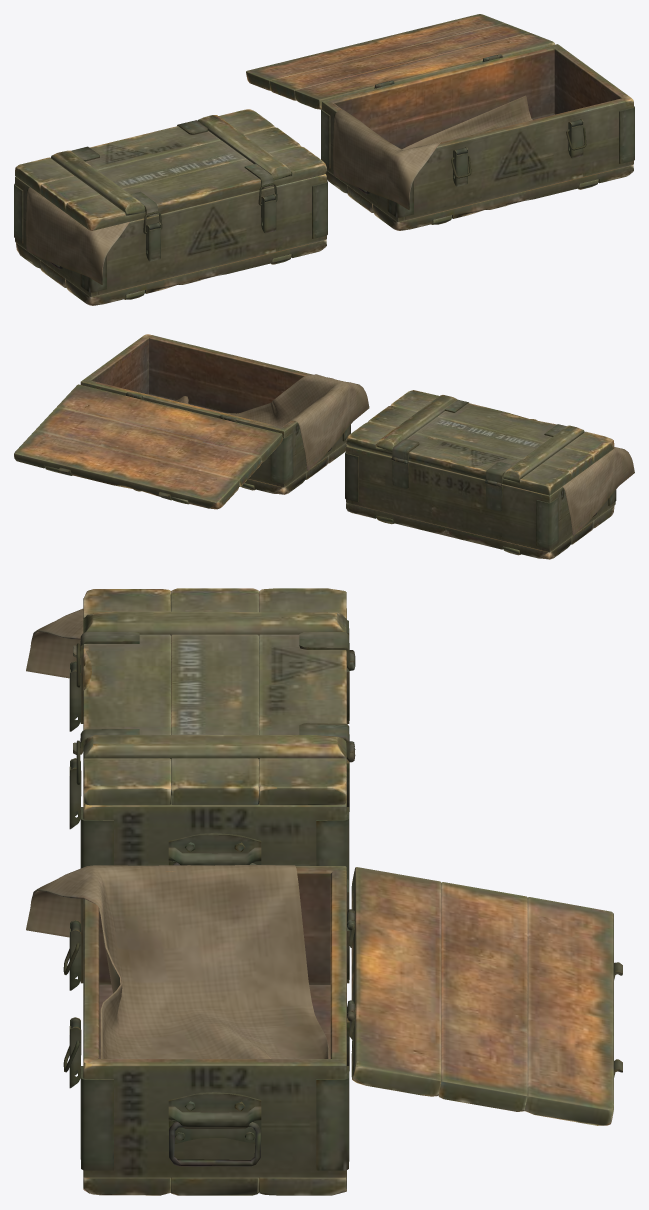
The model's file is old_military_crate.glb.
3 views of the same model, one above another, from view 1: azimuth 30°, elevation 25°; view 2: azimuth 150°, elevation 25°; view 3: azimuth 270°, elevation 25° (orthographic). The views are drawn at different scales.
Parts seen in each view (by area): view 1: old_military_crate_b, old_military_crate_lid_a, old_military_crate_a, old_military_crate_lid_b, old_military_crate_cloth_b, old_military_crate_cloth_a, old_military_crate_latch_a, old_military_crate_latch_b; view 2: old_military_crate_lid_b, old_military_crate_lid_a, old_military_crate_a, old_military_crate_b, old_military_crate_cloth_b, old_military_crate_cloth_a; view 3: old_military_crate_lid_a, old_military_crate_lid_b, old_military_crate_b, old_military_crate_cloth_b, old_military_crate_a, old_military_crate_cloth_a, old_military_crate_latch_b, old_military_crate_latch_a.
Boxes of the visible parts, bbox=[...] form: old_military_crate_b: bbox=[321, 44, 634, 230]; old_military_crate_lid_a: bbox=[15, 109, 326, 230]; old_military_crate_a: bbox=[14, 174, 327, 305]; old_military_crate_lid_b: bbox=[246, 14, 554, 109]; old_military_crate_cloth_b: bbox=[333, 95, 532, 209]; old_military_crate_cloth_a: bbox=[26, 187, 129, 284]; old_military_crate_latch_a: bbox=[146, 194, 276, 261]; old_military_crate_latch_b: bbox=[453, 119, 583, 186]; old_military_crate_lid_b: bbox=[14, 384, 282, 509]; old_military_crate_lid_a: bbox=[346, 390, 614, 495]; old_military_crate_a: bbox=[345, 446, 616, 559]; old_military_crate_b: bbox=[80, 334, 350, 494]; old_military_crate_cloth_b: bbox=[174, 374, 369, 470]; old_military_crate_cloth_a: bbox=[562, 447, 634, 535]; old_military_crate_lid_a: bbox=[73, 588, 355, 805]; old_military_crate_lid_b: bbox=[347, 867, 622, 1125]; old_military_crate_b: bbox=[80, 866, 355, 1195]; old_military_crate_cloth_b: bbox=[26, 865, 329, 1058]; old_military_crate_a: bbox=[80, 608, 355, 886]; old_military_crate_cloth_a: bbox=[26, 608, 83, 678]; old_military_crate_latch_b: bbox=[69, 920, 81, 1088]; old_military_crate_latch_a: bbox=[69, 661, 81, 829].
Size of the model in its own units: 1.82 by 0.3009 by 0.9743.
1 material, 1 textured.
